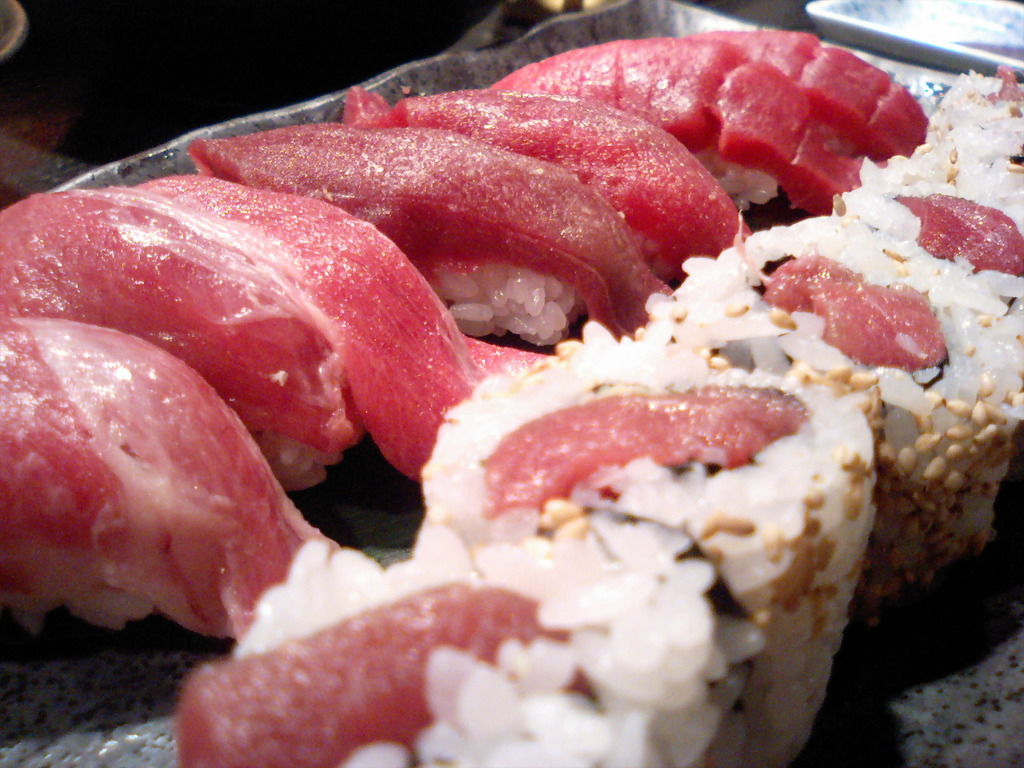sushi: (0, 29, 1023, 767), (186, 515, 754, 767), (15, 316, 292, 669)
